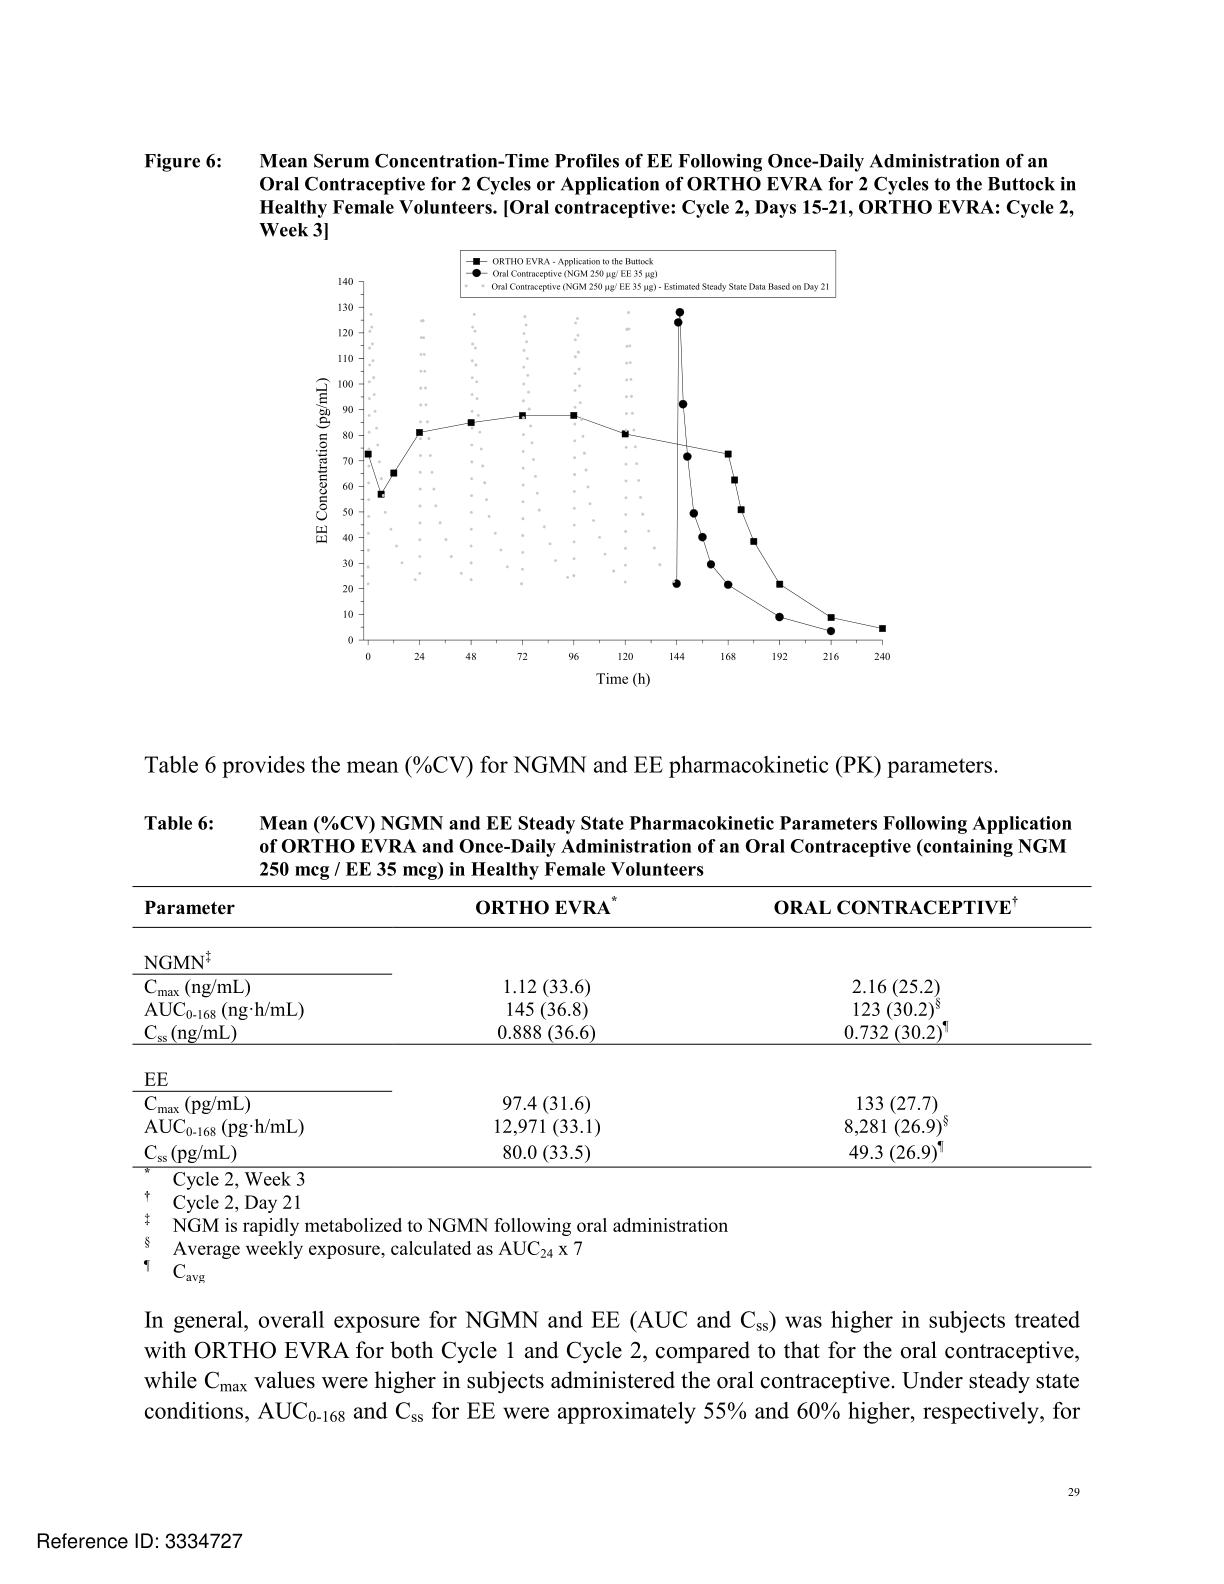partial_lined: (132, 885, 1092, 1167)
